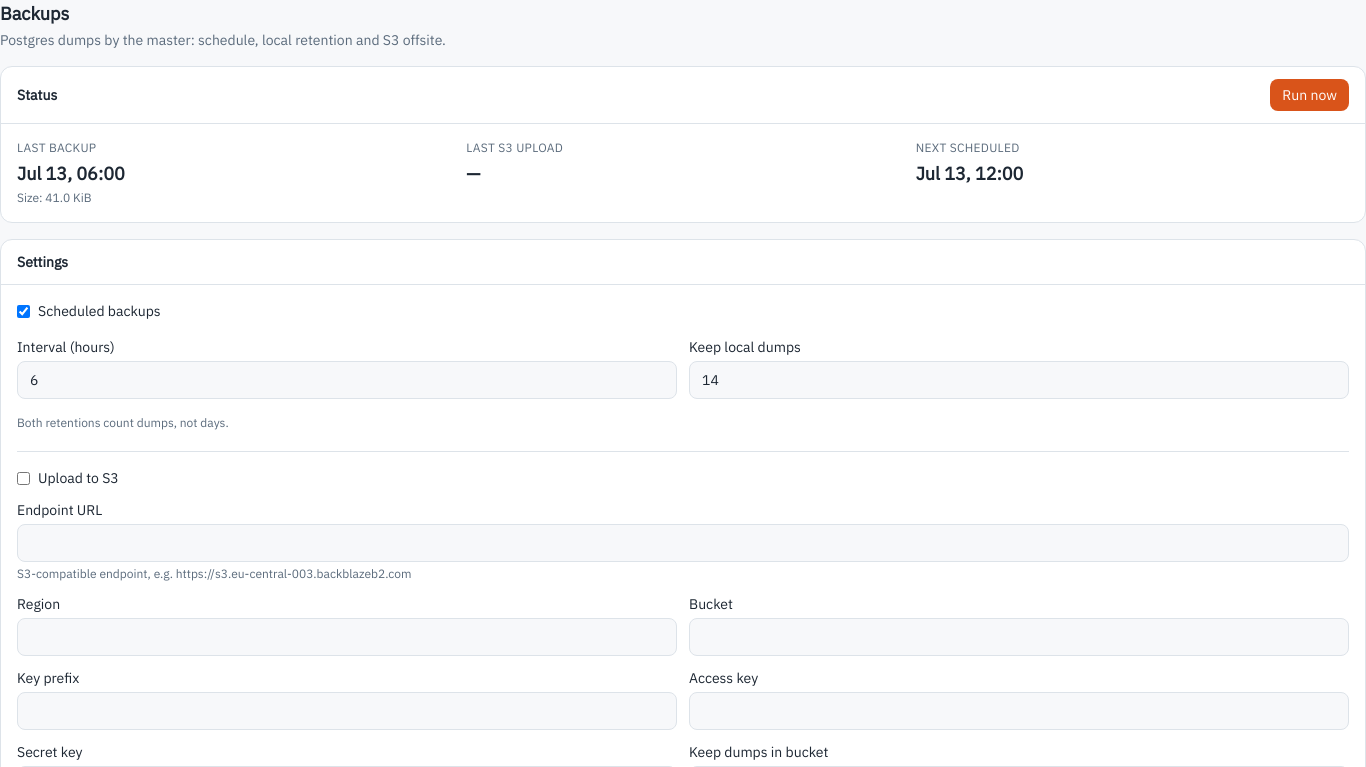
Test case: Backups screen › Run now is gated while the form is dirty (title hint), re-enables after save
Step 1. Replace the text in the number field labelled "Interval (hours)" with "12" → x=347, y=380, box [17, 361, 677, 399]
(page scrolled)
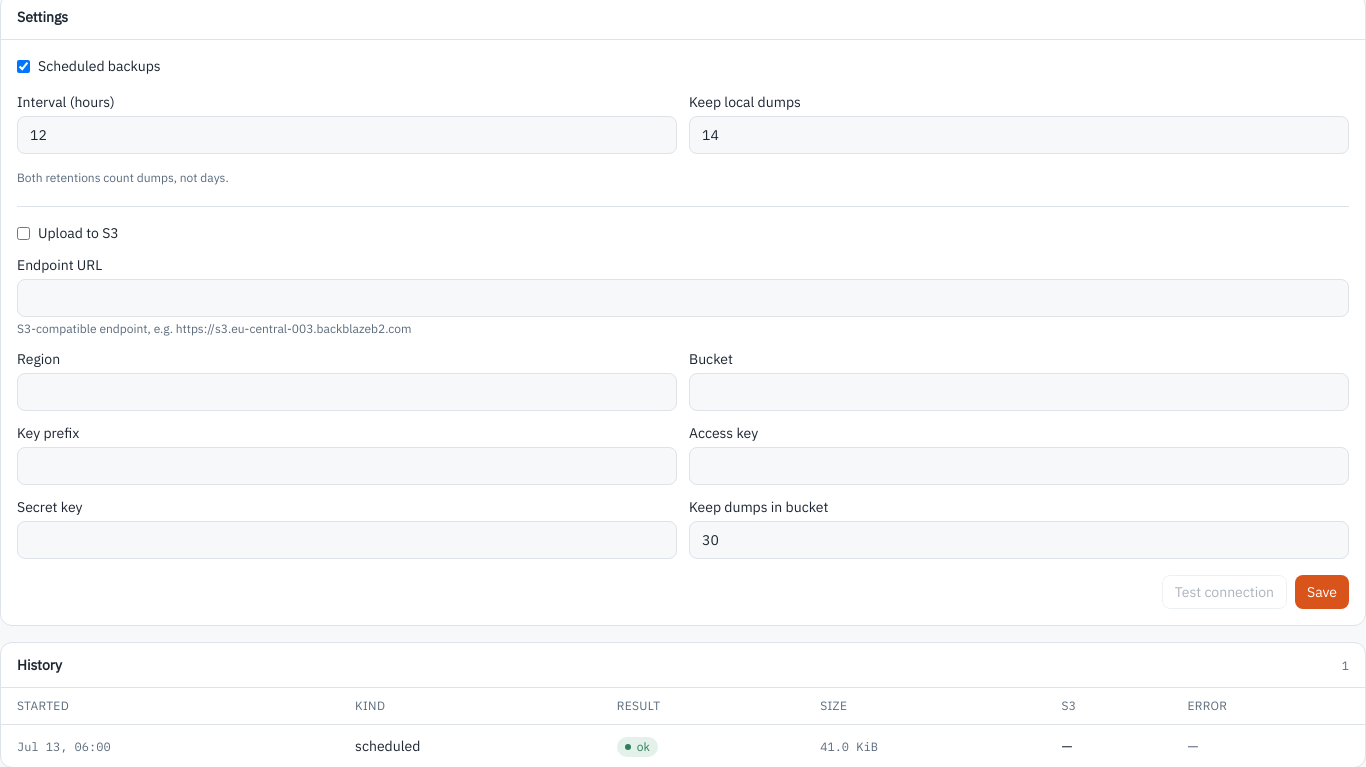
Step 2. Click the button "Save" → x=1322, y=592, box [1295, 575, 1349, 609]
(page scrolled)
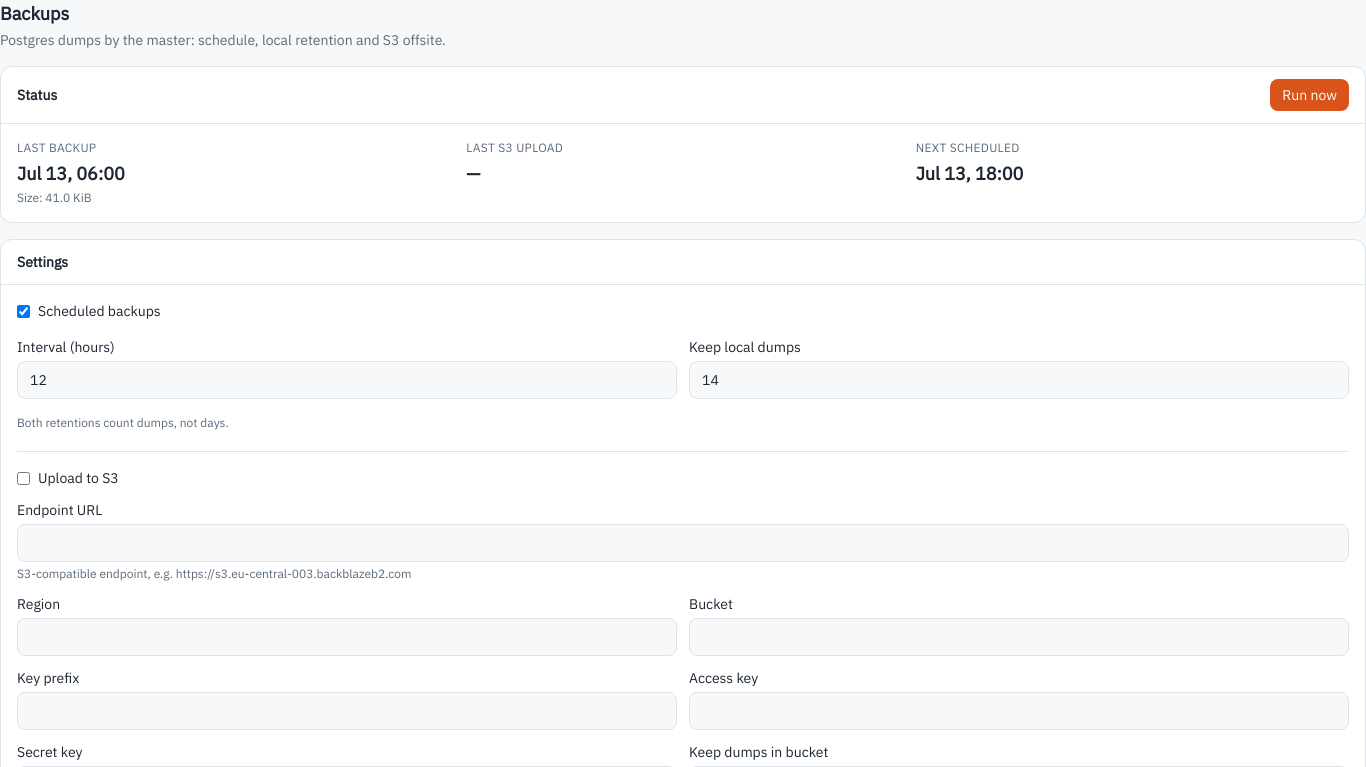
expect the button "Run now" is enabled: met, box [1270, 79, 1349, 111]
